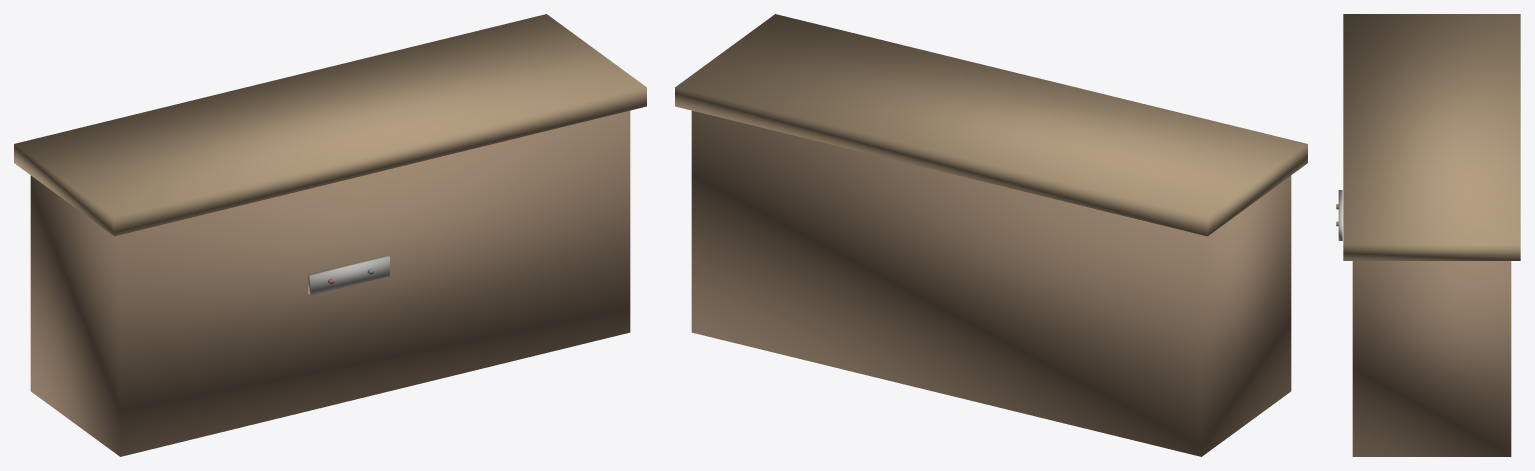
The model's file is host_stand__wide.glb.
3 views of the same model, side by side, from view 1: azimuth 30°, elevation 25°; view 2: azimuth 150°, elevation 25°; view 3: azimuth 270°, elevation 25° (orthographic). The views are drawn at different scales.
Visible parts, largest first — view 1: world; view 2: world; view 3: world.
Boxes of the visible parts, <box> form: world: <box>14,14,646,456</box>; world: <box>675,14,1307,456</box>; world: <box>1336,14,1520,456</box>.
Size of the model in its own units: 2.33 by 1.03 by 0.791.
